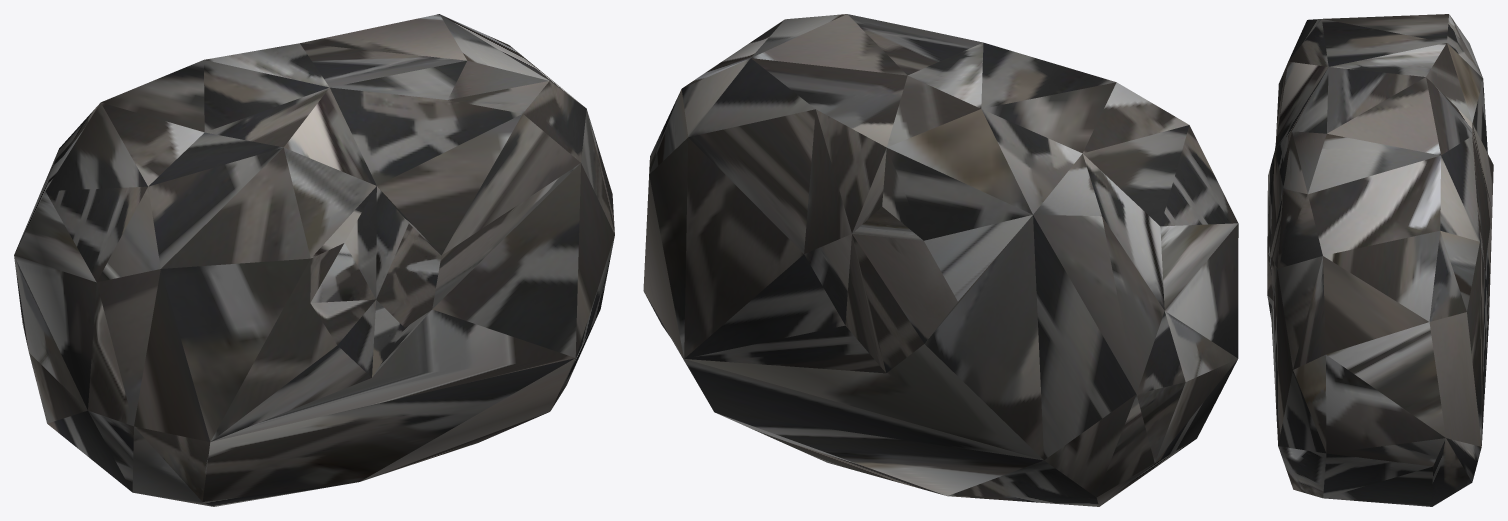
Rendered from Soap.fbx.
3 views of the same model, side by side, from view 1: azimuth 30°, elevation 25°; view 2: azimuth 150°, elevation 25°; view 3: azimuth 270°, elevation 25° (orthographic). The views are drawn at different scales.
Visible parts, largest first — view 1: Mesh_0; view 2: Mesh_0; view 3: Mesh_0.
Part boxes in pixels (<box>): Mesh_0: <box>14,14,614,506</box>; Mesh_0: <box>643,14,1238,506</box>; Mesh_0: <box>1267,14,1493,506</box>.
Size of the model in its own units: 200 by 142 by 79.58.
